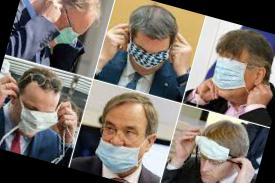mask_weared_incorrect: (93, 112, 149, 174), (13, 88, 61, 145), (205, 54, 255, 108), (125, 36, 172, 83), (191, 142, 233, 183), (54, 8, 92, 53)
